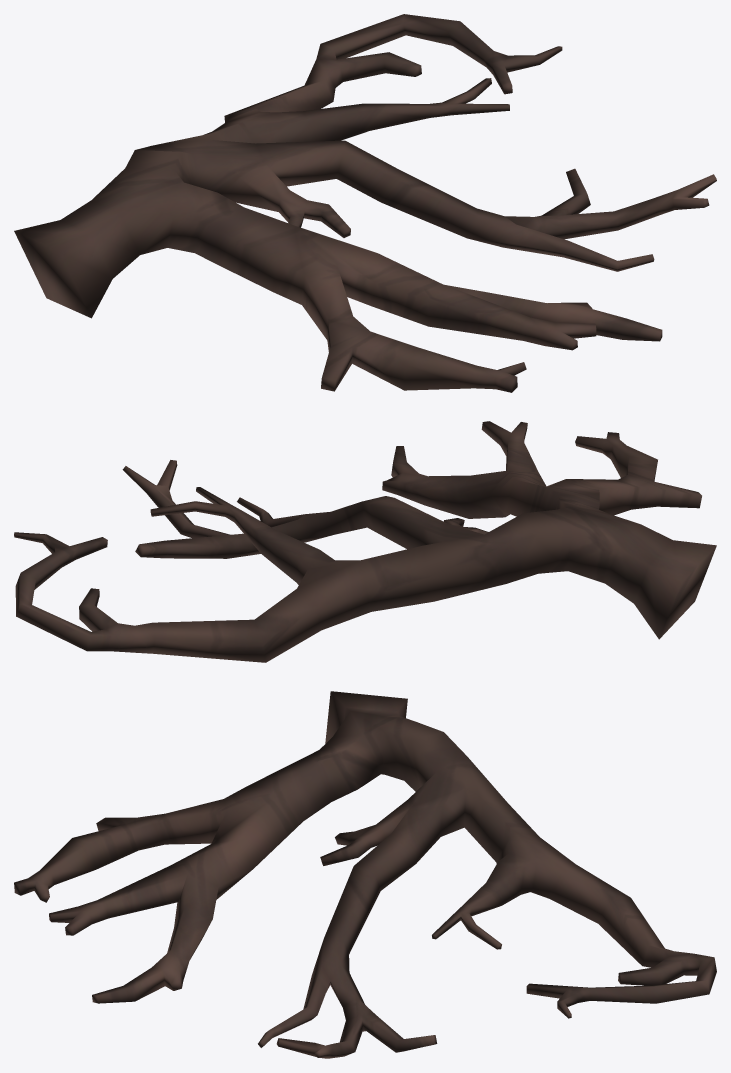
Rendered from Floor Branch 04.fbx.
The picture shows the model from 3 angles, top to bottom: view 1: azimuth 30°, elevation 25°; view 2: azimuth 150°, elevation 25°; view 3: azimuth 270°, elevation 25°; orthographic projection. The views are drawn at different scales.
Visible parts, largest first — view 1: Floor_Branch_04_LOD0; view 2: Floor_Branch_04_LOD0; view 3: Floor_Branch_04_LOD0.
Part boxes in pixels (left/top/right/bottom): Floor_Branch_04_LOD0: left=14, top=14, right=716, bottom=392; Floor_Branch_04_LOD0: left=14, top=421, right=716, bottom=662; Floor_Branch_04_LOD0: left=14, top=691, right=716, bottom=1058.
Size of what is drawn, in the model's own units: 292 by 64.39 by 297.
